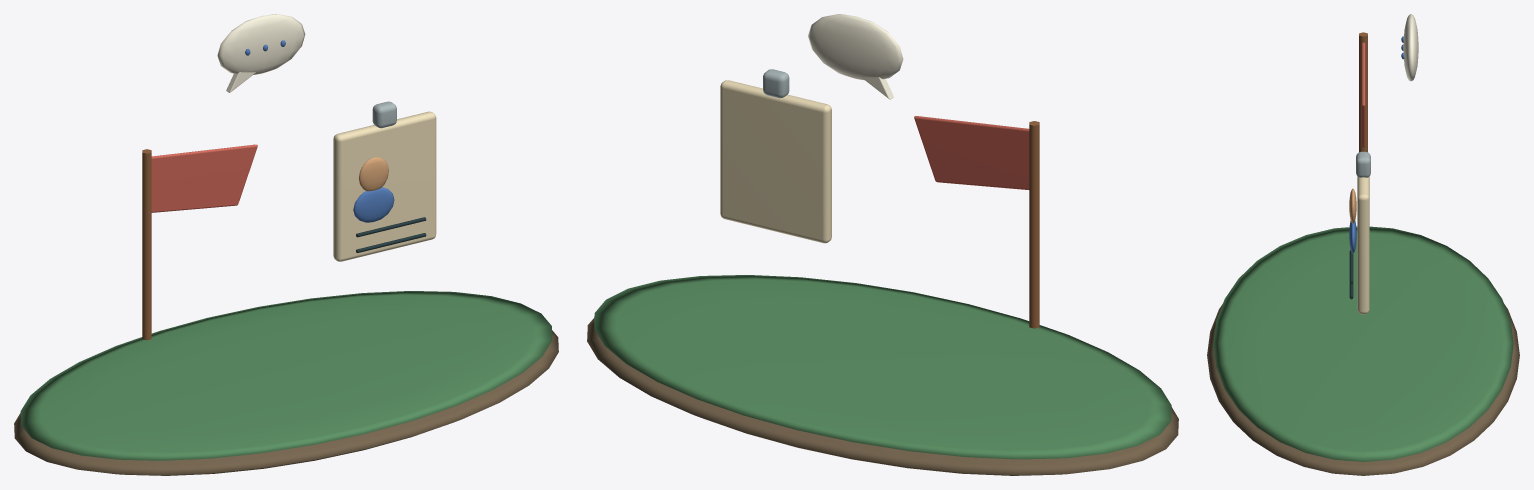
File: complete-third-summoned-employment.glb
3 views of the same model, side by side, from view 1: azimuth 30°, elevation 25°; view 2: azimuth 150°, elevation 25°; view 3: azimuth 270°, elevation 25° (orthographic). The views are drawn at different scales.
Visible parts, largest first — view 1: complete-third-summoned-employment_surface_01, complete-third-summoned-employment_surface_04, complete-third-summoned-employment_surface_00, complete-third-summoned-employment_surface_03, complete-third-summoned-employment_surface_09, complete-third-summoned-employment_surface_02, complete-third-summoned-employment_surface_07, complete-third-summoned-employment_surface_06, complete-third-summoned-employment_surface_08, complete-third-summoned-employment_surface_05; view 2: complete-third-summoned-employment_surface_01, complete-third-summoned-employment_surface_04, complete-third-summoned-employment_surface_00, complete-third-summoned-employment_surface_03, complete-third-summoned-employment_surface_09, complete-third-summoned-employment_surface_02, complete-third-summoned-employment_surface_05; view 3: complete-third-summoned-employment_surface_01, complete-third-summoned-employment_surface_00, complete-third-summoned-employment_surface_04, complete-third-summoned-employment_surface_09, complete-third-summoned-employment_surface_02, complete-third-summoned-employment_surface_03, complete-third-summoned-employment_surface_05.
Boxes of the visible parts, x1=… form: complete-third-summoned-employment_surface_01: x1=20, y1=291, x2=552, y2=460; complete-third-summoned-employment_surface_04: x1=333, y1=111, x2=436, y2=261; complete-third-summoned-employment_surface_00: x1=14, y1=330, x2=558, y2=475; complete-third-summoned-employment_surface_03: x1=151, y1=144, x2=257, y2=212; complete-third-summoned-employment_surface_09: x1=217, y1=14, x2=305, y2=92; complete-third-summoned-employment_surface_02: x1=142, y1=149, x2=151, y2=340; complete-third-summoned-employment_surface_07: x1=245, y1=40, x2=394, y2=222; complete-third-summoned-employment_surface_06: x1=359, y1=157, x2=388, y2=191; complete-third-summoned-employment_surface_08: x1=356, y1=217, x2=426, y2=252; complete-third-summoned-employment_surface_05: x1=372, y1=101, x2=396, y2=128; complete-third-summoned-employment_surface_01: x1=594, y1=275, x2=1171, y2=459; complete-third-summoned-employment_surface_04: x1=720, y1=80, x2=831, y2=243; complete-third-summoned-employment_surface_00: x1=587, y1=318, x2=1178, y2=475; complete-third-summoned-employment_surface_03: x1=914, y1=116, x2=1029, y2=189; complete-third-summoned-employment_surface_09: x1=808, y1=14, x2=903, y2=99; complete-third-summoned-employment_surface_02: x1=1029, y1=121, x2=1039, y2=328; complete-third-summoned-employment_surface_05: x1=763, y1=69, x2=789, y2=98; complete-third-summoned-employment_surface_01: x1=1213, y1=226, x2=1513, y2=461; complete-third-summoned-employment_surface_00: x1=1207, y1=304, x2=1519, y2=475; complete-third-summoned-employment_surface_04: x1=1357, y1=176, x2=1369, y2=314; complete-third-summoned-employment_surface_09: x1=1403, y1=14, x2=1418, y2=81; complete-third-summoned-employment_surface_02: x1=1359, y1=32, x2=1367, y2=152; complete-third-summoned-employment_surface_03: x1=1361, y1=42, x2=1365, y2=147; complete-third-summoned-employment_surface_05: x1=1356, y1=151, x2=1370, y2=177.
Size of the model in its own units: 4.56 by 3.08 by 2.5.
